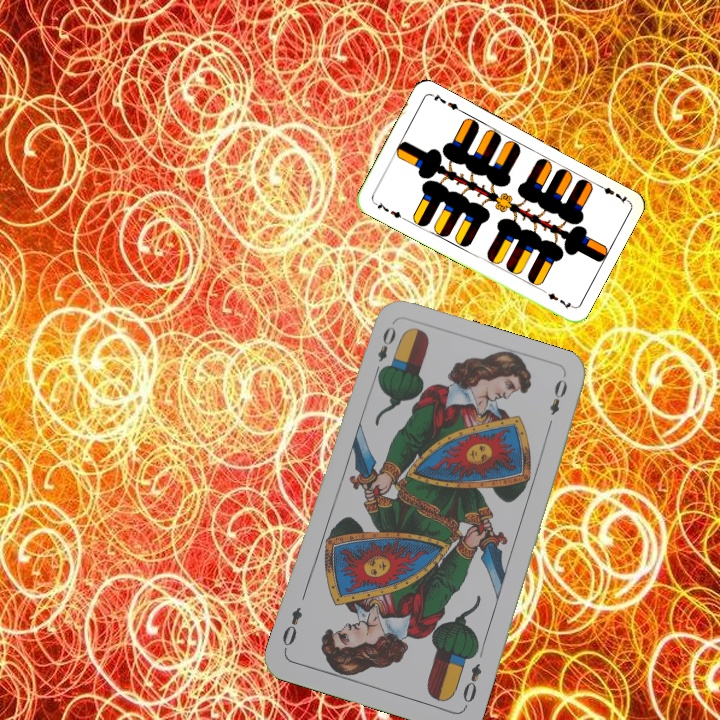E7: (593, 180, 630, 206), (370, 198, 407, 222)
EO: (370, 322, 399, 379), (458, 659, 484, 710)
